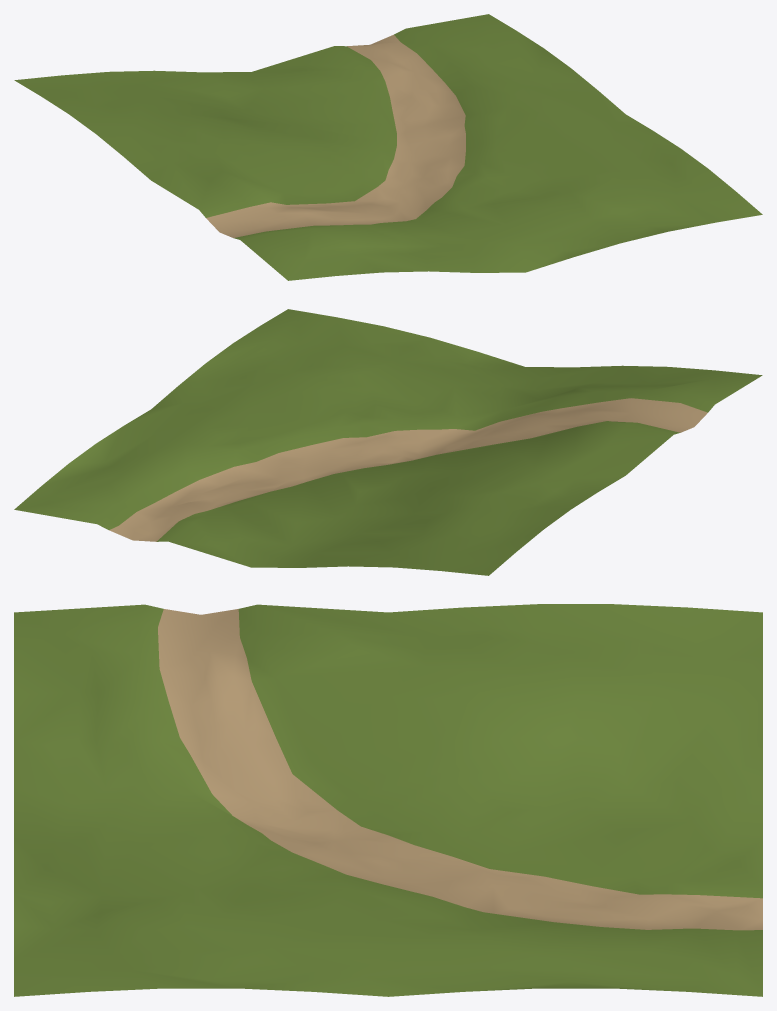
File: rpgpp_ag_terrain_path_09_20x20m_corner_a_slope_2m.fbx
The picture shows the model from 3 angles, top to bottom: view 1: azimuth 30°, elevation 25°; view 2: azimuth 150°, elevation 25°; view 3: azimuth 270°, elevation 25°; orthographic projection. The views are drawn at different scales.
Visible parts, largest first — view 1: rpgpp_ag_terrain_path_09_20x20m_corner_a_slope_2m; view 2: rpgpp_ag_terrain_path_09_20x20m_corner_a_slope_2m; view 3: rpgpp_ag_terrain_path_09_20x20m_corner_a_slope_2m.
Part boxes in pixels (left/top/right/bottom): rpgpp_ag_terrain_path_09_20x20m_corner_a_slope_2m: left=14, top=14, right=762, bottom=280; rpgpp_ag_terrain_path_09_20x20m_corner_a_slope_2m: left=14, top=309, right=762, bottom=575; rpgpp_ag_terrain_path_09_20x20m_corner_a_slope_2m: left=14, top=604, right=762, bottom=996.
Size of the model in its own units: 20 by 2.43 by 20.
